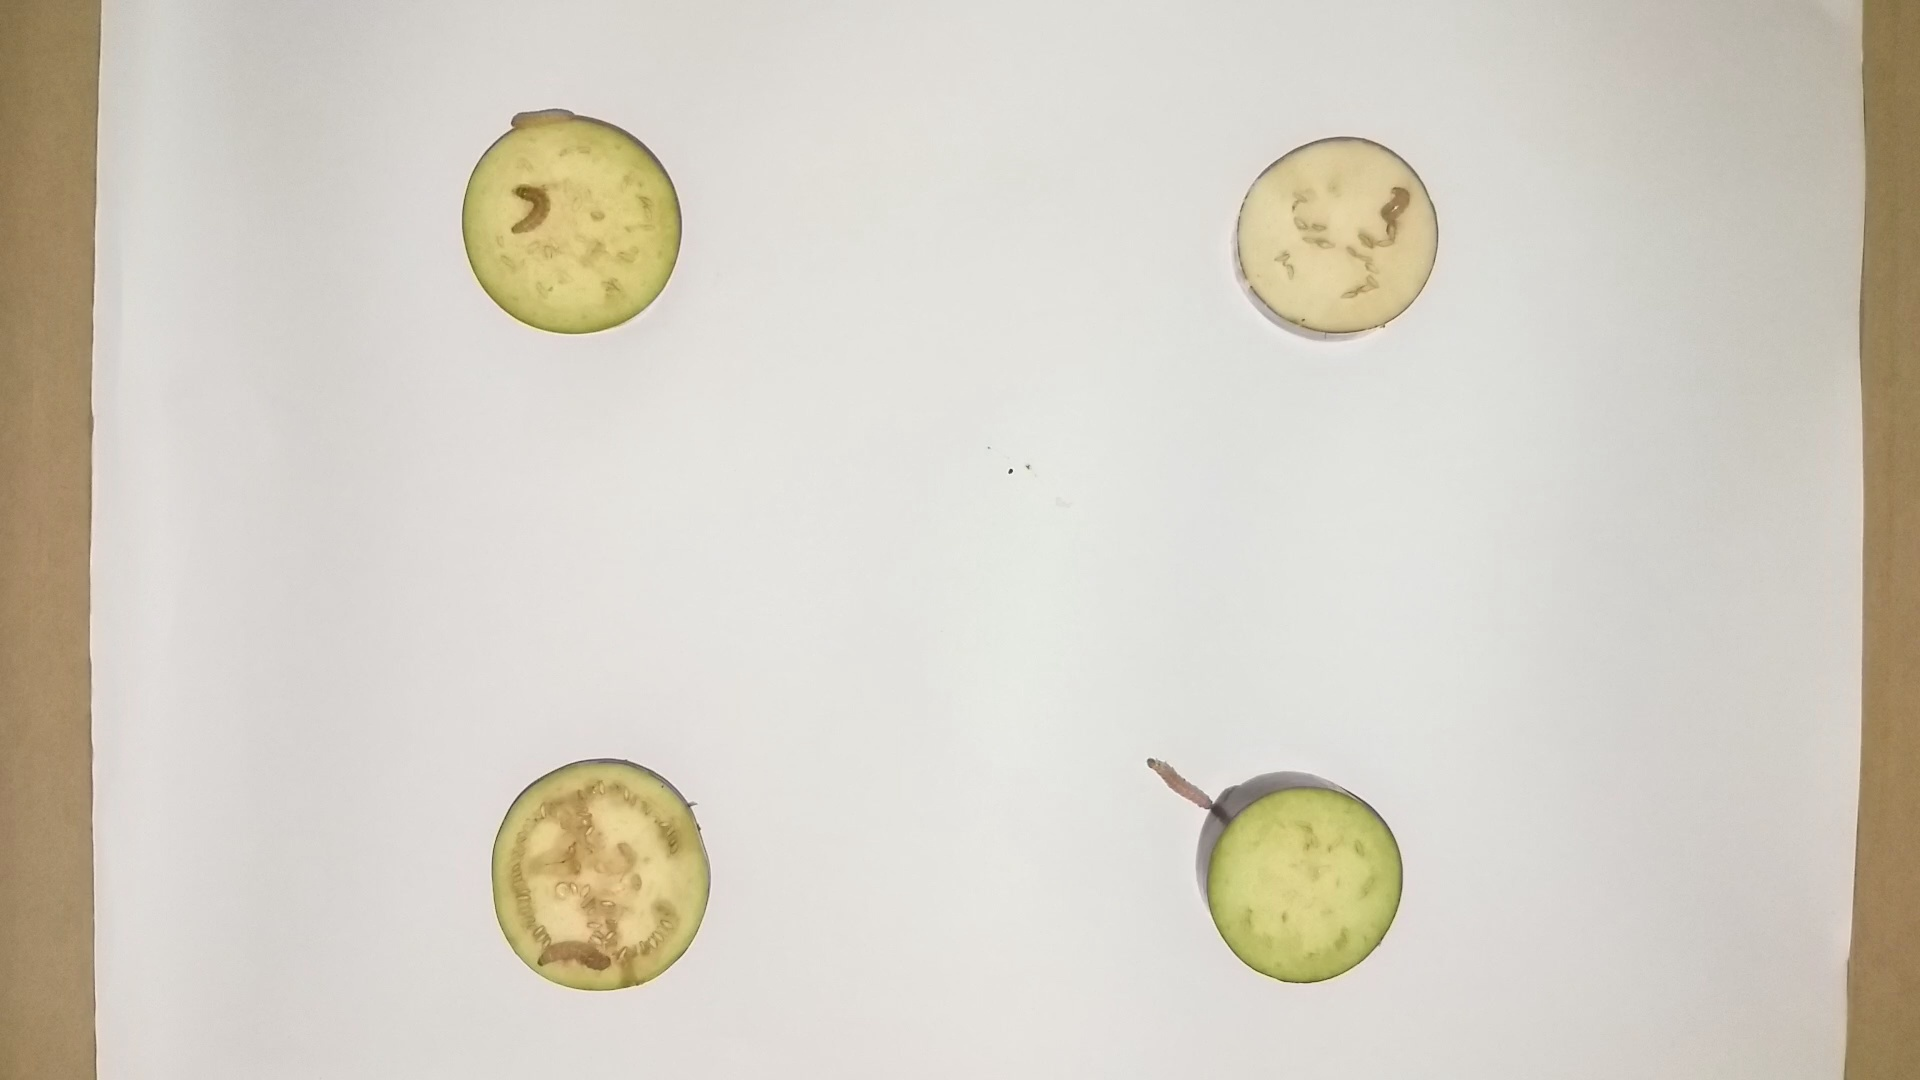efsb: (1145, 749, 1217, 812), (531, 934, 624, 977), (502, 174, 553, 251), (501, 102, 578, 136), (1371, 182, 1414, 231)
eggplant: (477, 742, 719, 1000), (448, 109, 686, 342), (1183, 754, 1408, 996), (1221, 123, 1453, 347)
